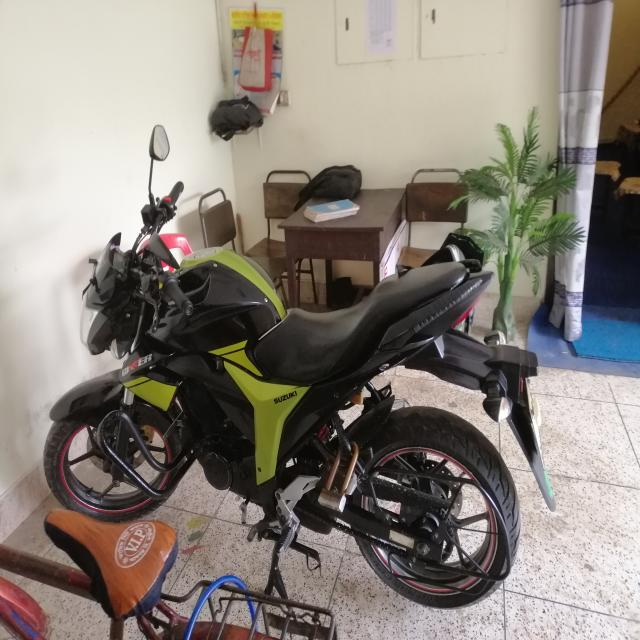Motorbike: (32, 114, 549, 611)
